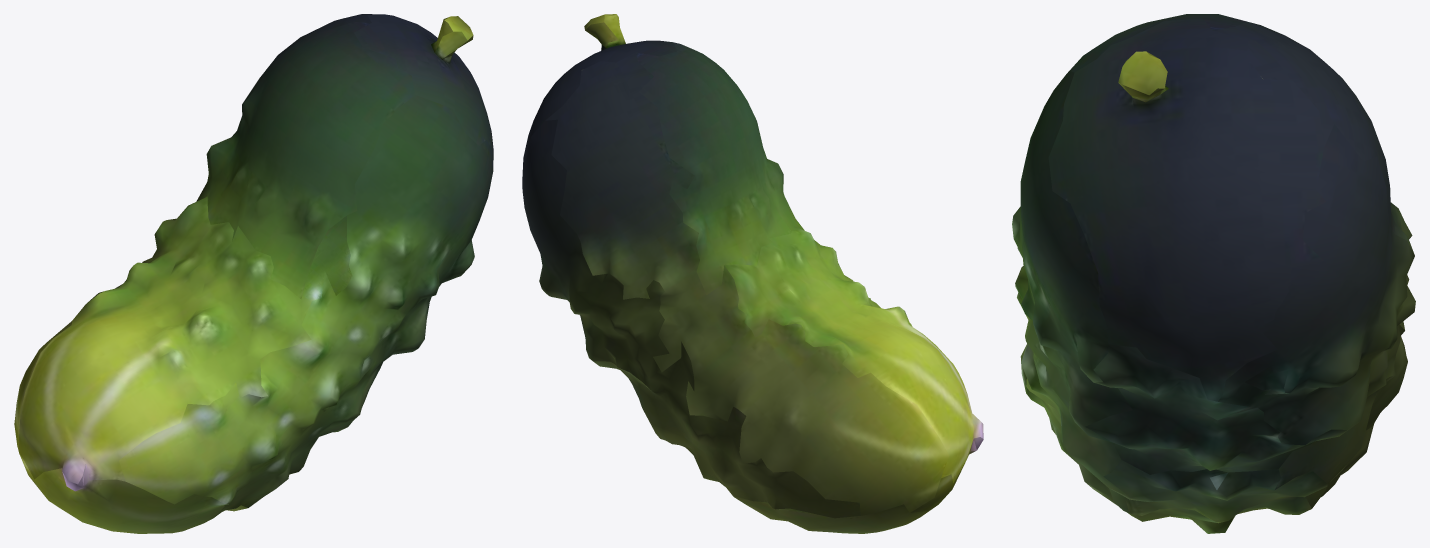
Rendered from cucumber.glb.
3 views of the same model, side by side, from view 1: azimuth 30°, elevation 25°; view 2: azimuth 150°, elevation 25°; view 3: azimuth 270°, elevation 25° (orthographic). The views are drawn at different scales.
Parts seen in each view (by area): view 1: cucumber; view 2: cucumber; view 3: cucumber.
Boxes of the visible parts, x1,y1,x2,y2 form: cucumber: (14, 14, 493, 533); cucumber: (522, 14, 983, 533); cucumber: (1012, 14, 1415, 533).
Bounding box in the file's own units: 1 × 0.9732 × 0.5687.
Materials: 1 (1 with a texture image).
